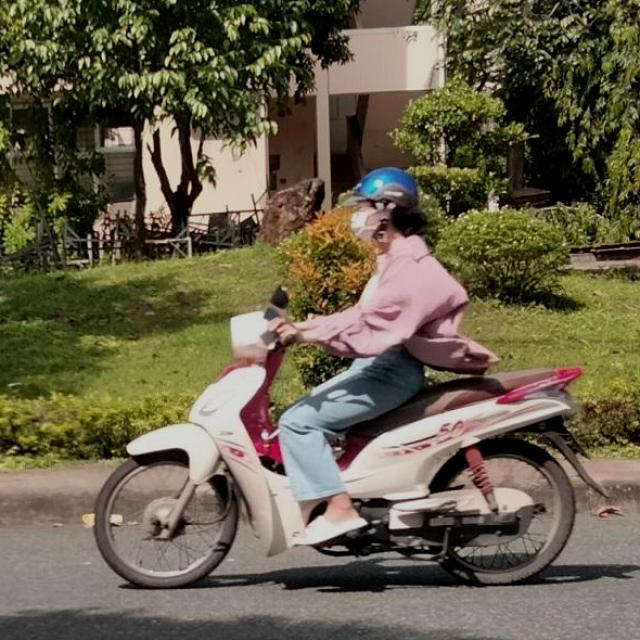Helmet: (338, 160, 426, 248)
